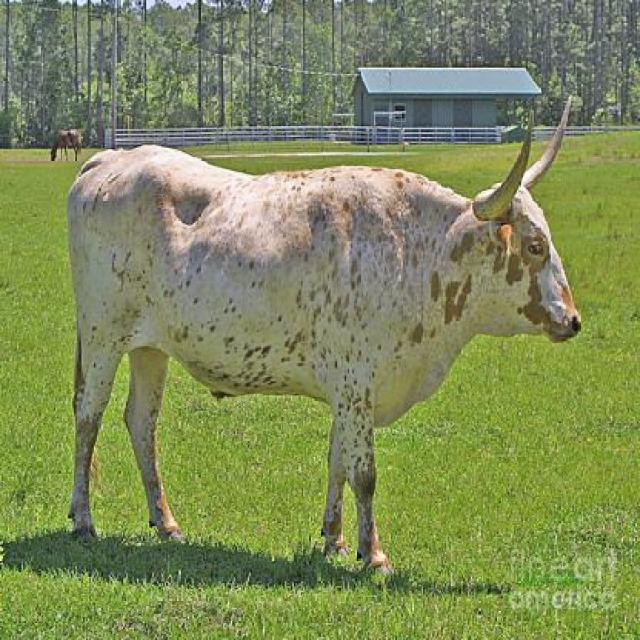Cow: (70, 95, 582, 588)
